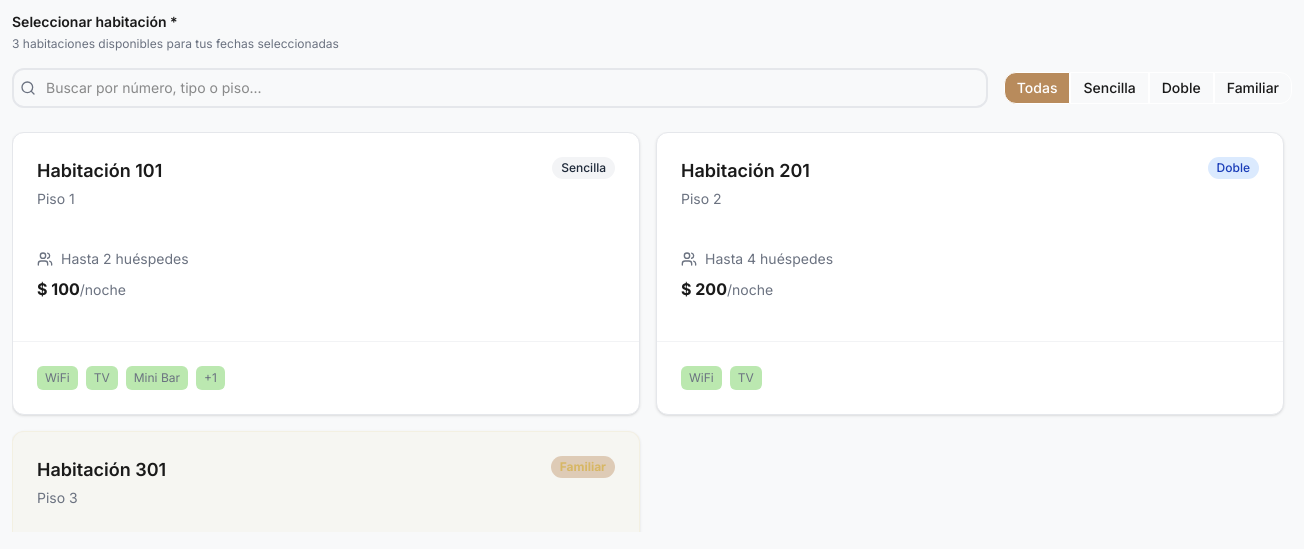
it: RoomSelector › filters rooms by room type
The image size is (1304, 549).
Click the radio button "Sencilla" at (1110, 88), box [1070, 72, 1149, 104]
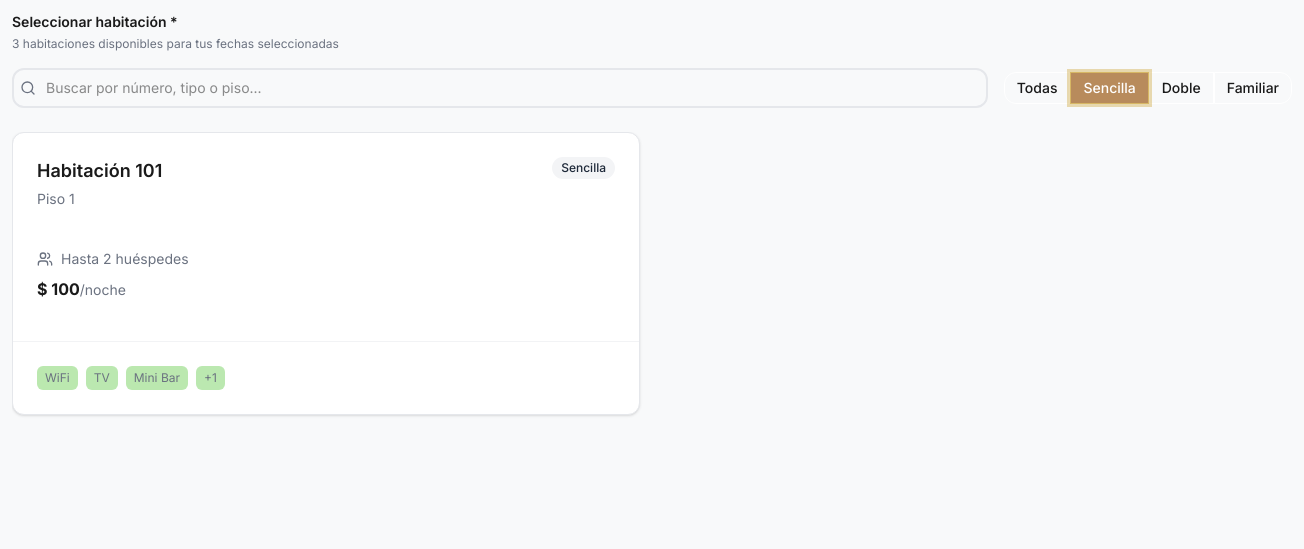
Expected: the text "Habitación 101" is shown, [37, 157, 162, 185]
Expected: the option "Habitación 201" is gone
Expected: the option "Habitación 301" is gone
